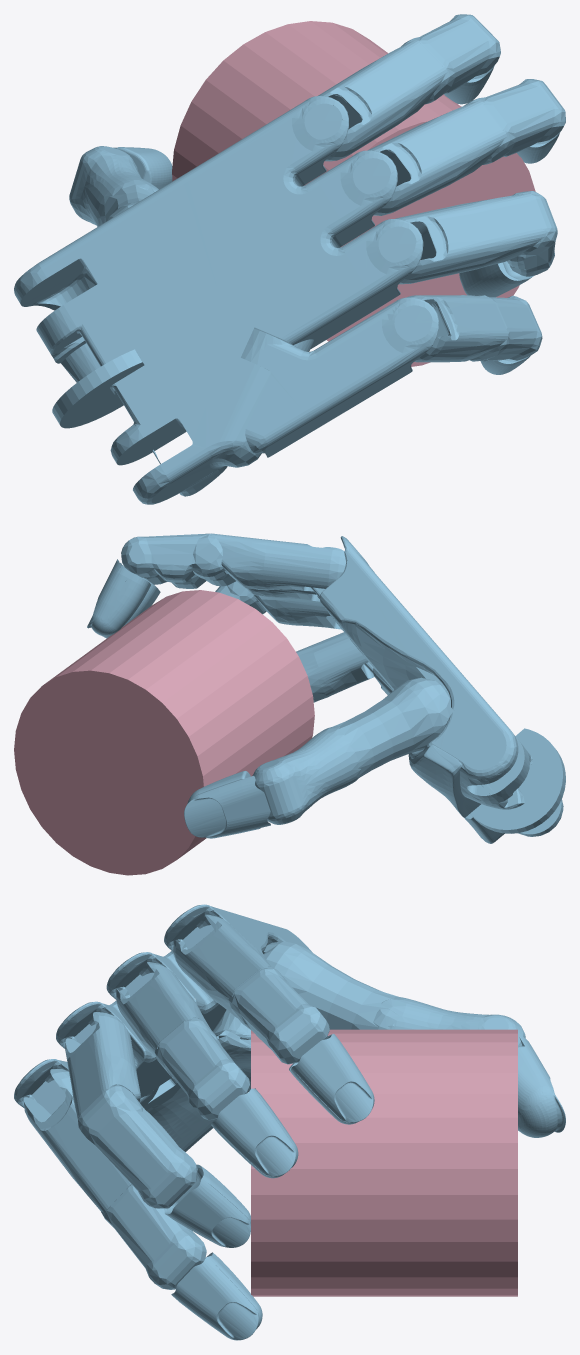
The picture shows the model from 3 angles, top to bottom: view 1: azimuth 30°, elevation 25°; view 2: azimuth 150°, elevation 25°; view 3: azimuth 270°, elevation 25°; orthographic projection. The views are drawn at different scales.
Parts seen in each view (by area): view 1: world; view 2: world; view 3: world.
Boxes of the visible parts, x1,y1,x2,y2 form: world: [14, 14, 565, 504]; world: [14, 533, 565, 875]; world: [14, 904, 565, 1340].
Bounding box in the file's own units: 0.1813 × 0.1142 × 0.1654.
